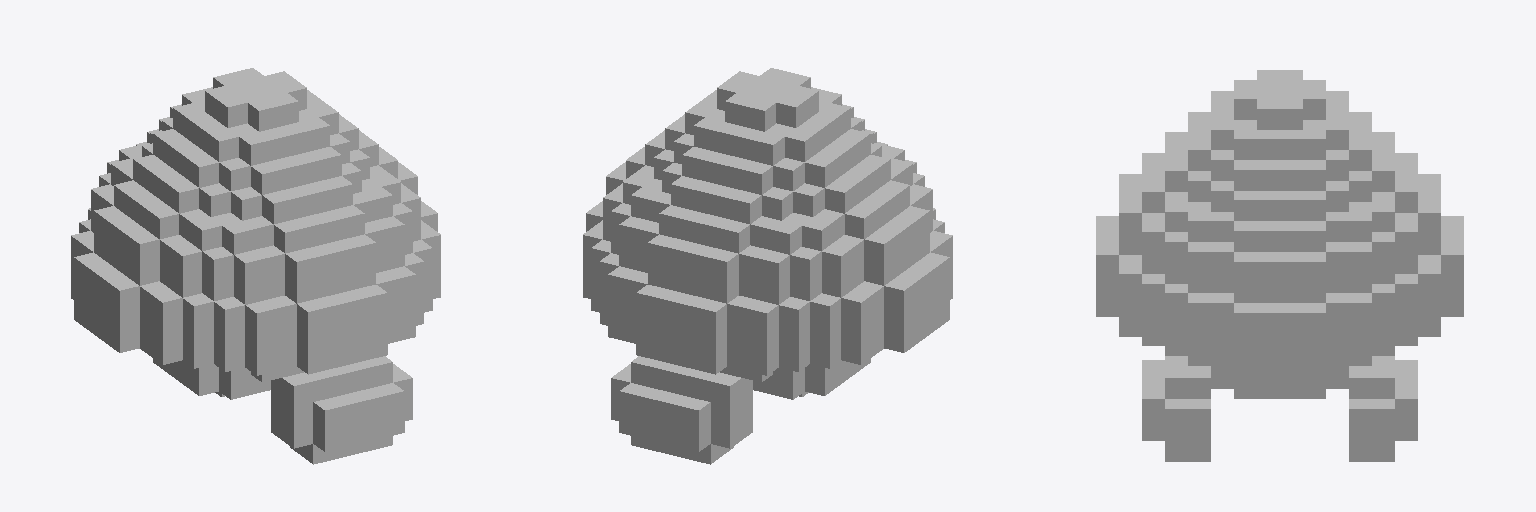
The model's file is mesh.orig.obj.
3 renders of one model, left to right at view 1: azimuth 30°, elevation 25°; view 2: azimuth 150°, elevation 25°; view 3: azimuth 270°, elevation 25°, orthographic.
Parts seen in each view (by area): view 1: Gumba; view 2: Gumba; view 3: Gumba.
Part boxes in pixels (left/top/right/bottom): Gumba: left=71, top=68, right=440, bottom=464; Gumba: left=583, top=68, right=952, bottom=464; Gumba: left=1096, top=70, right=1463, bottom=461.
Size of the model in its own units: 400 by 400 by 400.